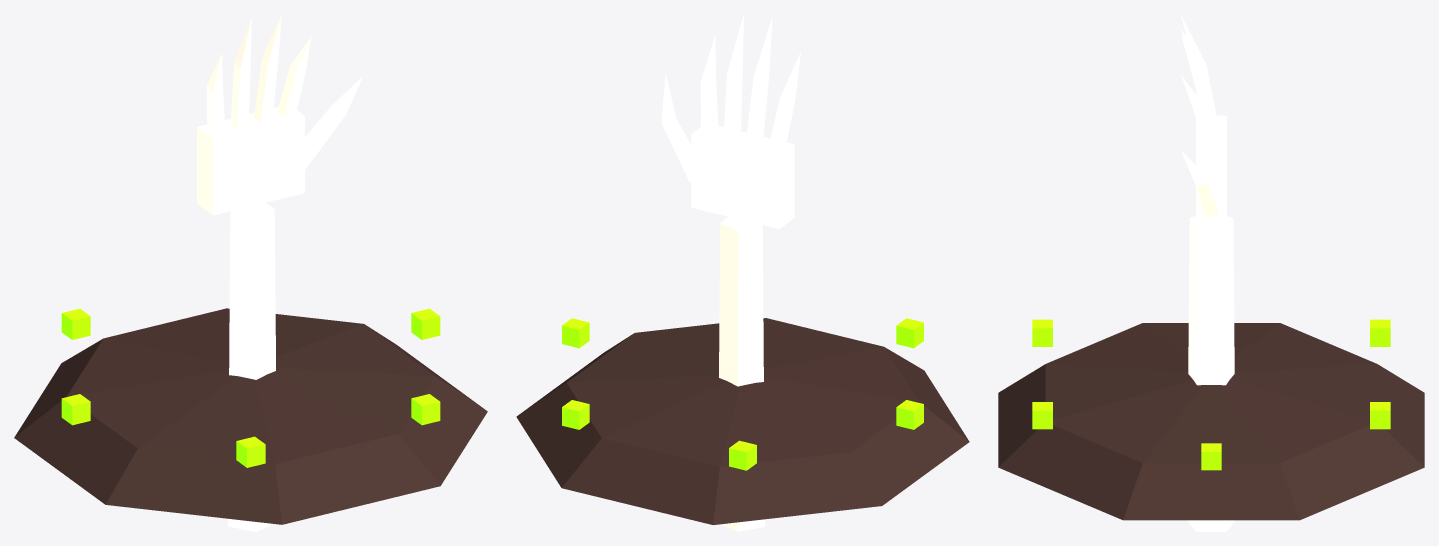
The model's file is hand.glb.
3 renders of one model, left to right at view 1: azimuth 30°, elevation 25°; view 2: azimuth 150°, elevation 25°; view 3: azimuth 270°, elevation 25°, orthographic. The views are drawn at different scales.
Parts seen in each view (by area): view 1: mound_mesh, hand_mesh, wisp_4_mesh, wisp_0_mesh, wisp_3_mesh, wisp_5_mesh, wisp_2_mesh; view 2: mound_mesh, hand_mesh, wisp_0_mesh, wisp_3_mesh, wisp_2_mesh, wisp_4_mesh, wisp_1_mesh; view 3: mound_mesh, hand_mesh, wisp_0_mesh, wisp_1_mesh, wisp_2_mesh, wisp_4_mesh, wisp_5_mesh.
Boxes of the visible parts, x1,y1,x2,y2 form: mound_mesh: (14, 308, 487, 524); hand_mesh: (197, 14, 362, 531); wisp_4_mesh: (236, 436, 265, 467); wisp_0_mesh: (411, 308, 440, 339); wisp_3_mesh: (61, 394, 90, 425); wisp_5_mesh: (411, 394, 440, 425); wisp_2_mesh: (61, 308, 90, 339); mound_mesh: (516, 318, 969, 524); hand_mesh: (661, 14, 800, 531); wisp_0_mesh: (562, 318, 589, 348); wisp_3_mesh: (896, 400, 923, 429); wisp_2_mesh: (729, 440, 756, 470); wisp_4_mesh: (896, 318, 923, 348); wisp_1_mesh: (562, 400, 589, 429); mound_mesh: (998, 323, 1424, 520); hand_mesh: (1181, 15, 1234, 531); wisp_0_mesh: (1201, 443, 1221, 470); wisp_1_mesh: (1370, 402, 1390, 429); wisp_2_mesh: (1370, 319, 1390, 346); wisp_4_mesh: (1032, 319, 1052, 346); wisp_5_mesh: (1032, 402, 1052, 429).
Bounding box in the file's own units: 0.8315 × 1.08 × 0.8315.
